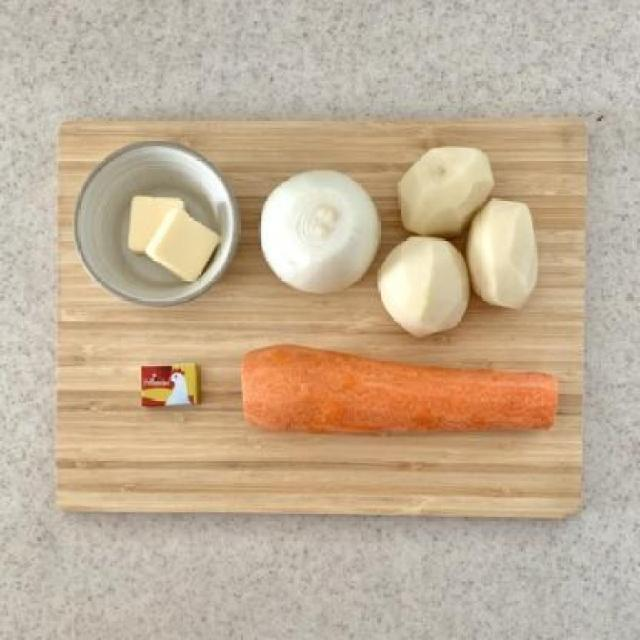carrot: (239, 347, 561, 435)
onion: (258, 167, 386, 298)
potato: (380, 236, 469, 340), (396, 146, 498, 235), (469, 196, 541, 314)
